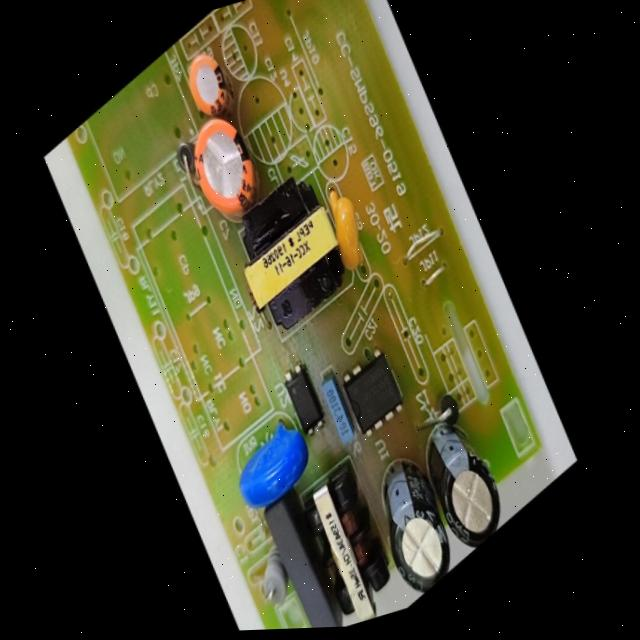Cap1: (168, 90, 283, 243)
Cap2: (170, 31, 251, 134)
Cap3: (349, 431, 475, 611)
Cap4: (399, 385, 524, 568)
MOSFET: (327, 331, 420, 454)
Mov: (214, 403, 331, 531)
Resistor: (242, 533, 305, 620)
Transformer: (209, 154, 372, 357), (281, 442, 414, 629)
